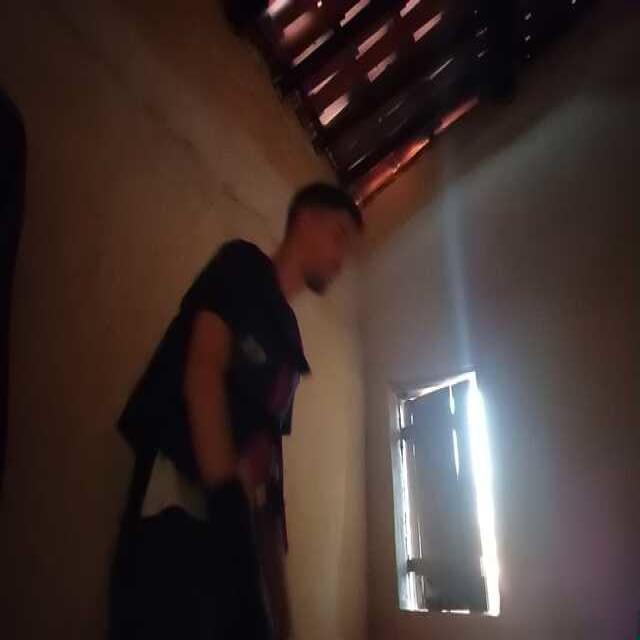colete: (135, 273, 308, 492)
pessoa: (133, 194, 361, 640)
